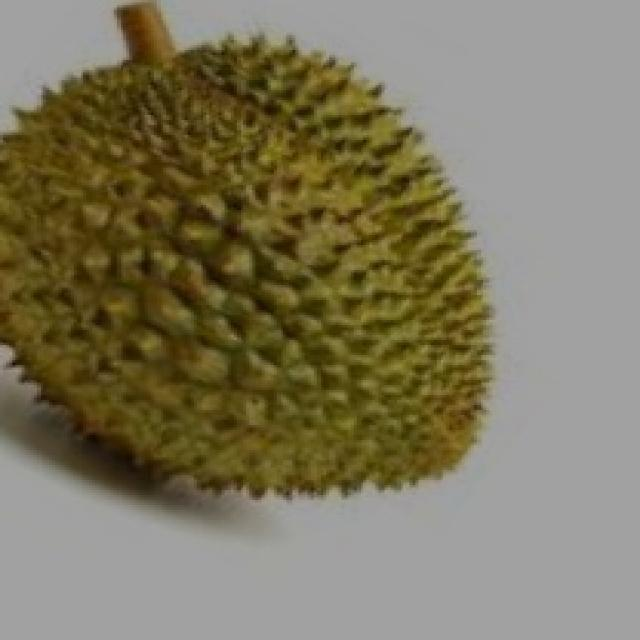fruit: (0, 202, 372, 557)
